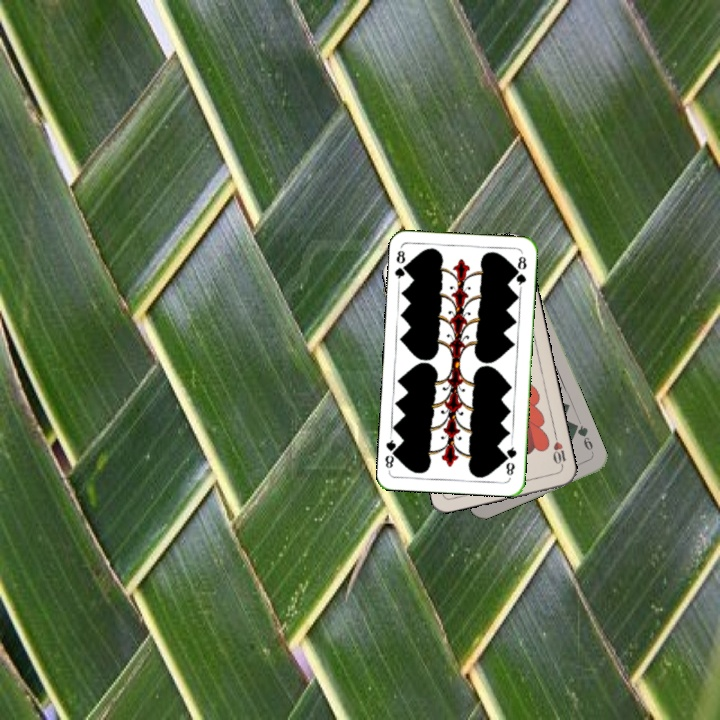G8: (391, 244, 411, 285), (502, 439, 519, 478)
G9: (571, 420, 597, 458)
H10: (549, 431, 569, 471)
